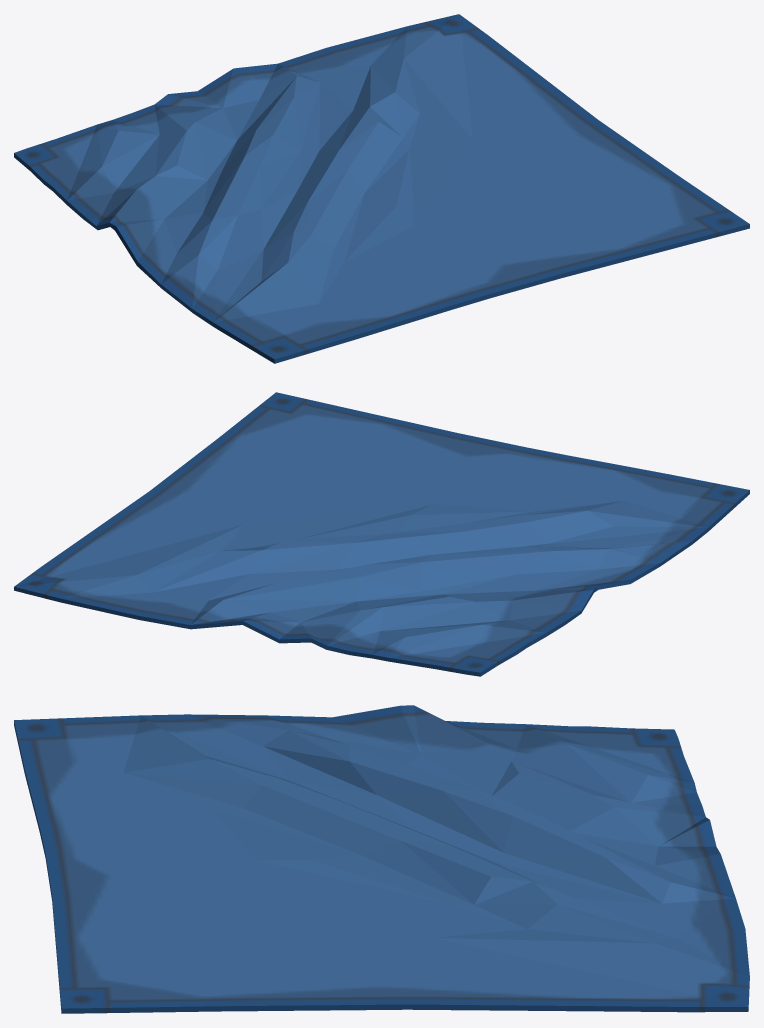
Rendered from SM_Prop_Tarp_Generic_03.fbx.
3 renders of one model, top to bottom at view 1: azimuth 30°, elevation 25°; view 2: azimuth 150°, elevation 25°; view 3: azimuth 270°, elevation 25°, orthographic. The views are drawn at different scales.
Visible parts, largest first — view 1: SM_Prop_Tarp_Generic_03; view 2: SM_Prop_Tarp_Generic_03; view 3: SM_Prop_Tarp_Generic_03.
Boxes of the visible parts, x1=… form: SM_Prop_Tarp_Generic_03: x1=14, y1=14, x2=749, y2=363; SM_Prop_Tarp_Generic_03: x1=14, y1=392, x2=749, y2=676; SM_Prop_Tarp_Generic_03: x1=14, y1=705, x2=749, y2=1013.
Bounding box in the file's own units: 420 × 21.6 × 445.
